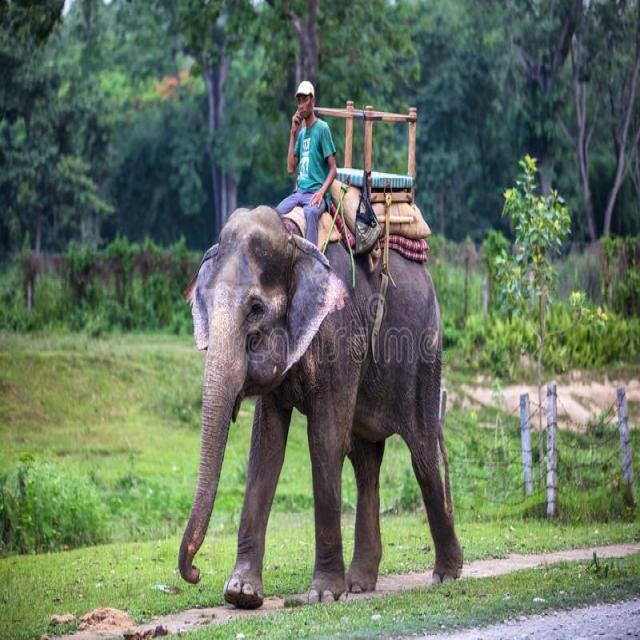Elephant: (167, 184, 483, 618)
